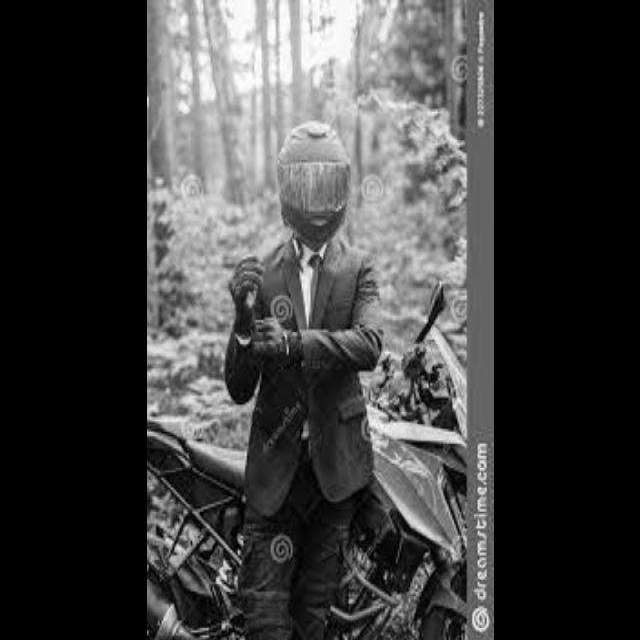5_casco: (266, 110, 358, 253)
